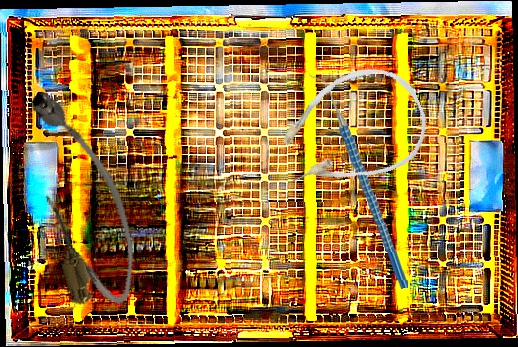Cannula: (16, 78, 149, 316), (261, 53, 440, 208)
Chopper: (309, 69, 408, 292)
